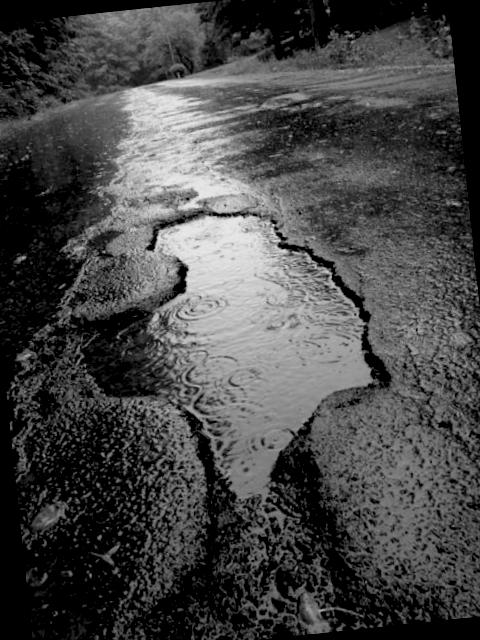Pothole: (49, 179, 421, 640)
